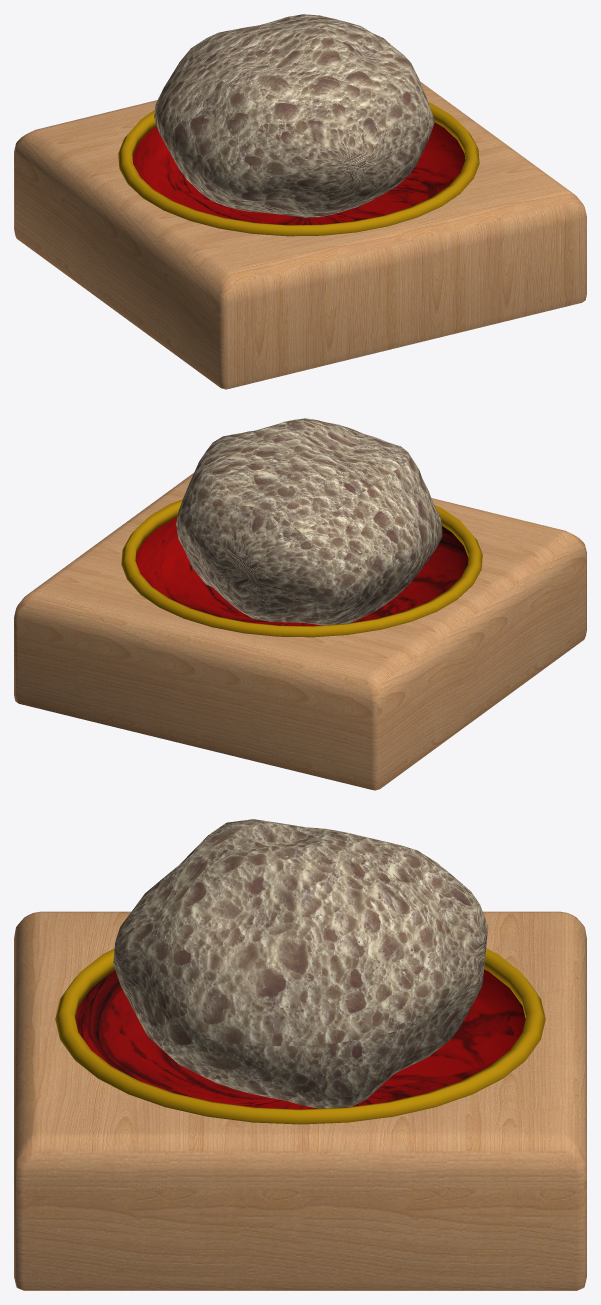
Rendered from Sponge.glb.
3 views of the same model, one above another, from view 1: azimuth 30°, elevation 25°; view 2: azimuth 150°, elevation 25°; view 3: azimuth 270°, elevation 25° (orthographic). The views are drawn at different scales.
Visible parts, largest first — view 1: Wood Marble, Sponge.001, Seam Dish; view 2: Wood Marble, Sponge.001, Seam Dish; view 3: Wood Marble, Sponge.001, Seam Dish.
Part boxes in pixels (x1,y1,x2,y2): Wood Marble: (14,81,586,389); Sponge.001: (154,14,434,217); Seam Dish: (118,102,479,236); Wood Marble: (14,473,586,790); Sponge.001: (176,418,442,625); Seam Dish: (121,499,482,637); Wood Marble: (14,911,586,1290); Sponge.001: (113,819,487,1108); Seam Dish: (55,948,545,1124).
Bounding box in the file's own units: 0.0381 × 0.024 × 0.0381.
Materials: 4 (3 with a texture image).
